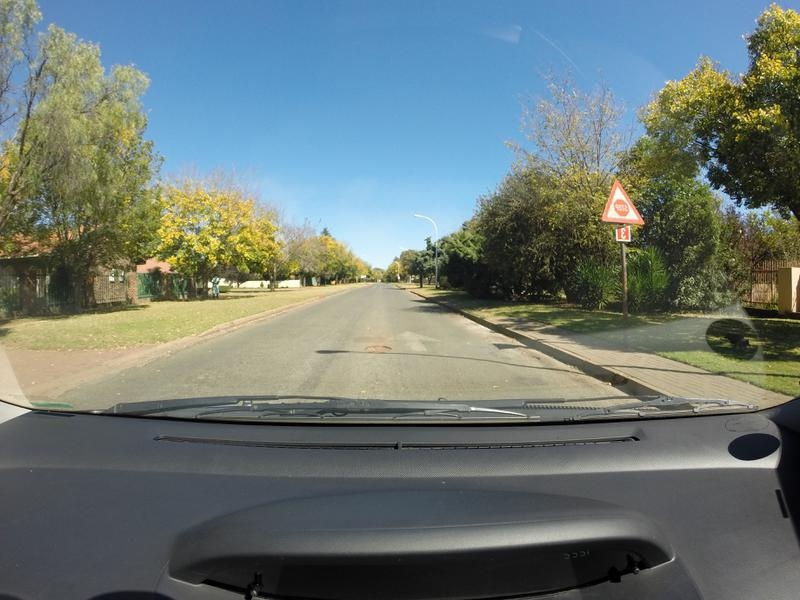pothole: (361, 343, 390, 354)
